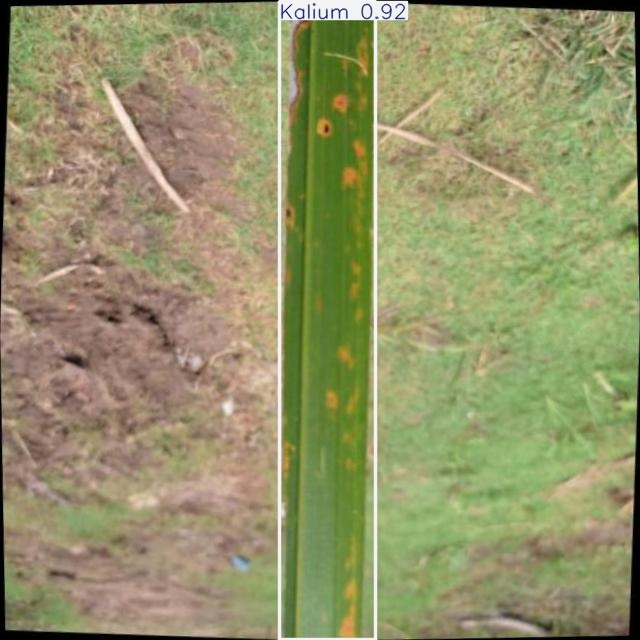Kalium: (280, 1, 376, 640)
